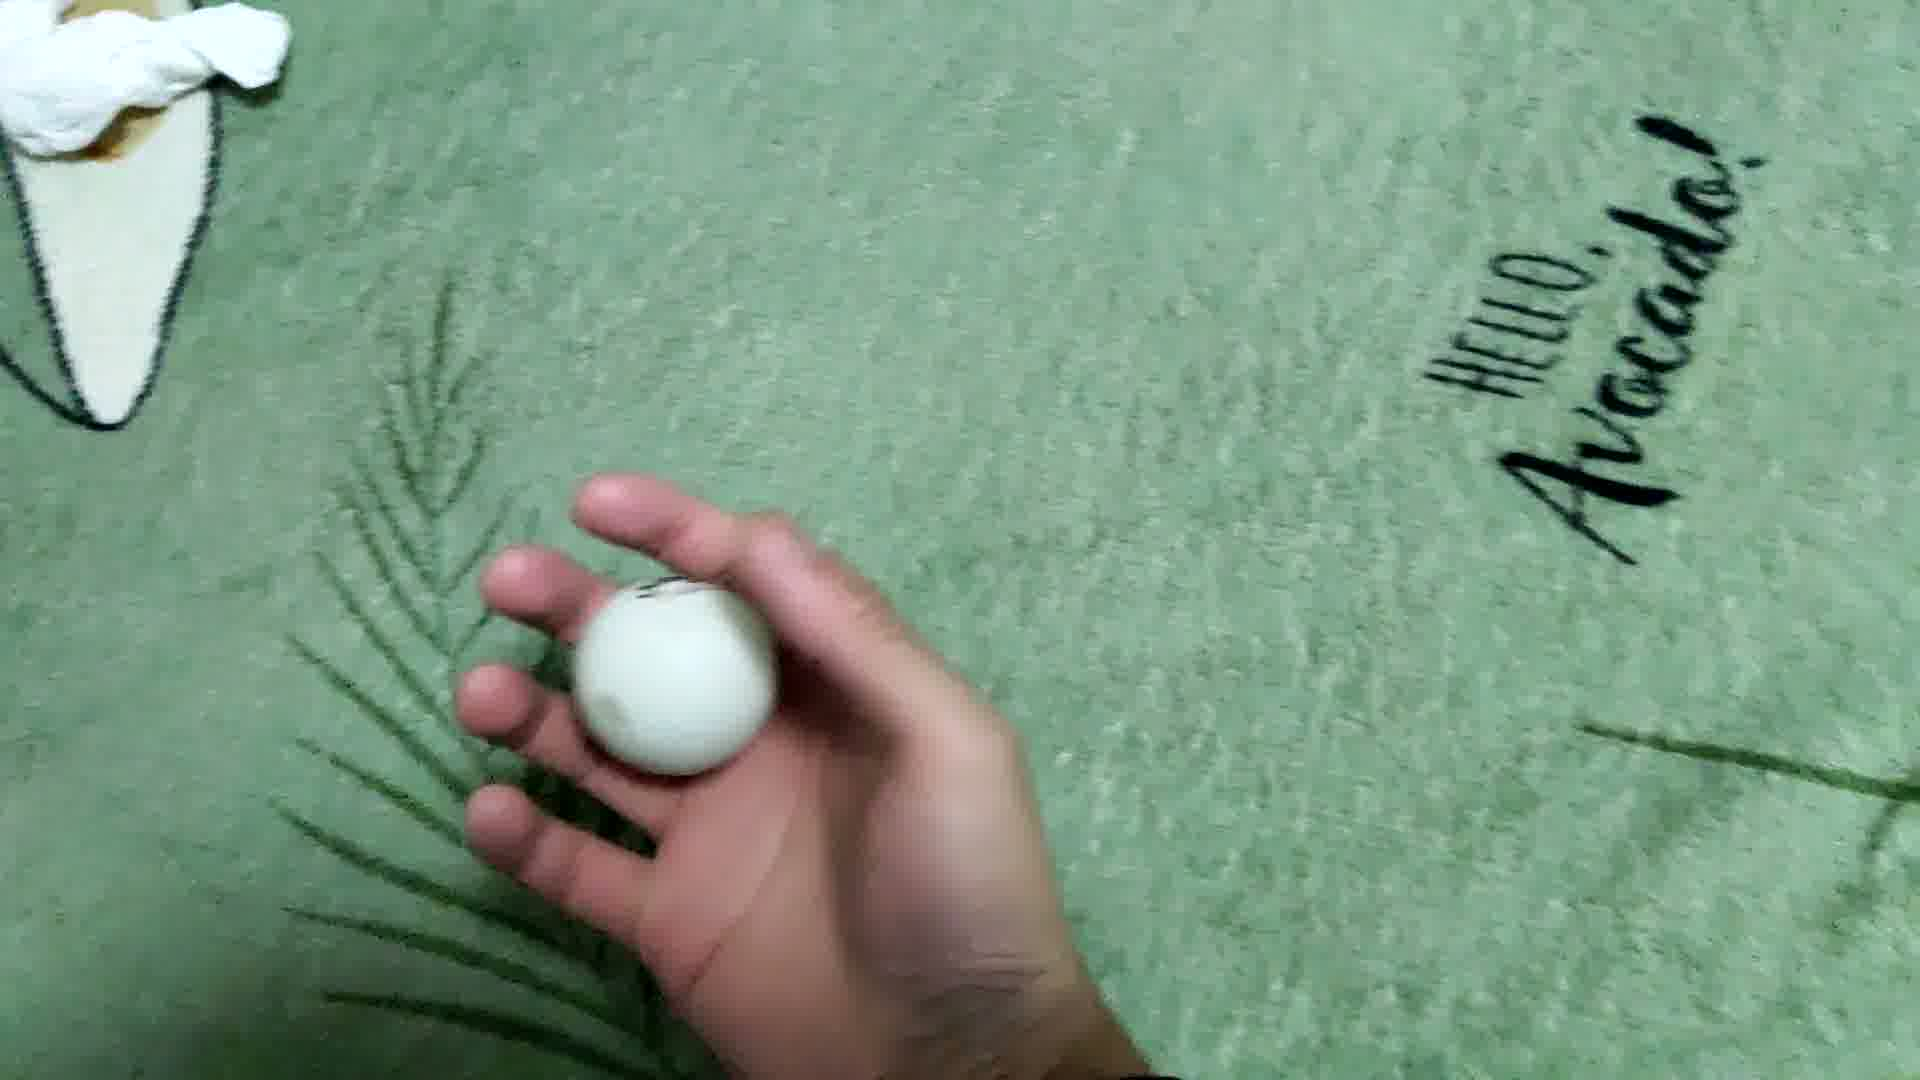Ball: (575, 578, 775, 769)
